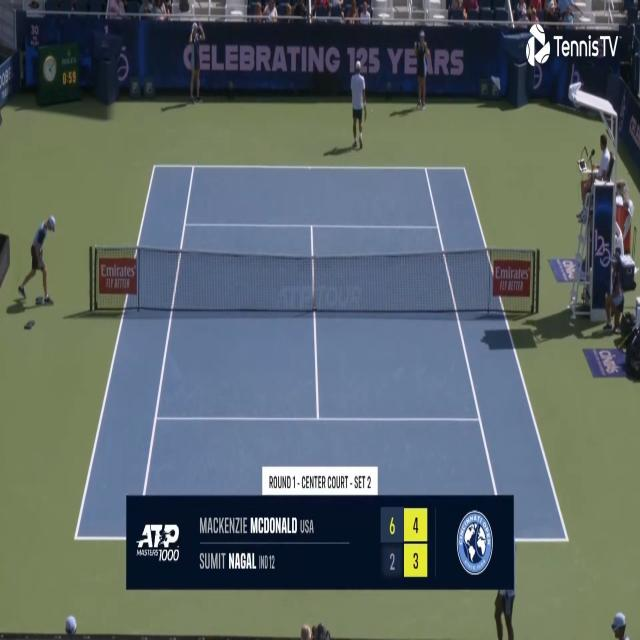tennis-player: (349, 59, 367, 151)
